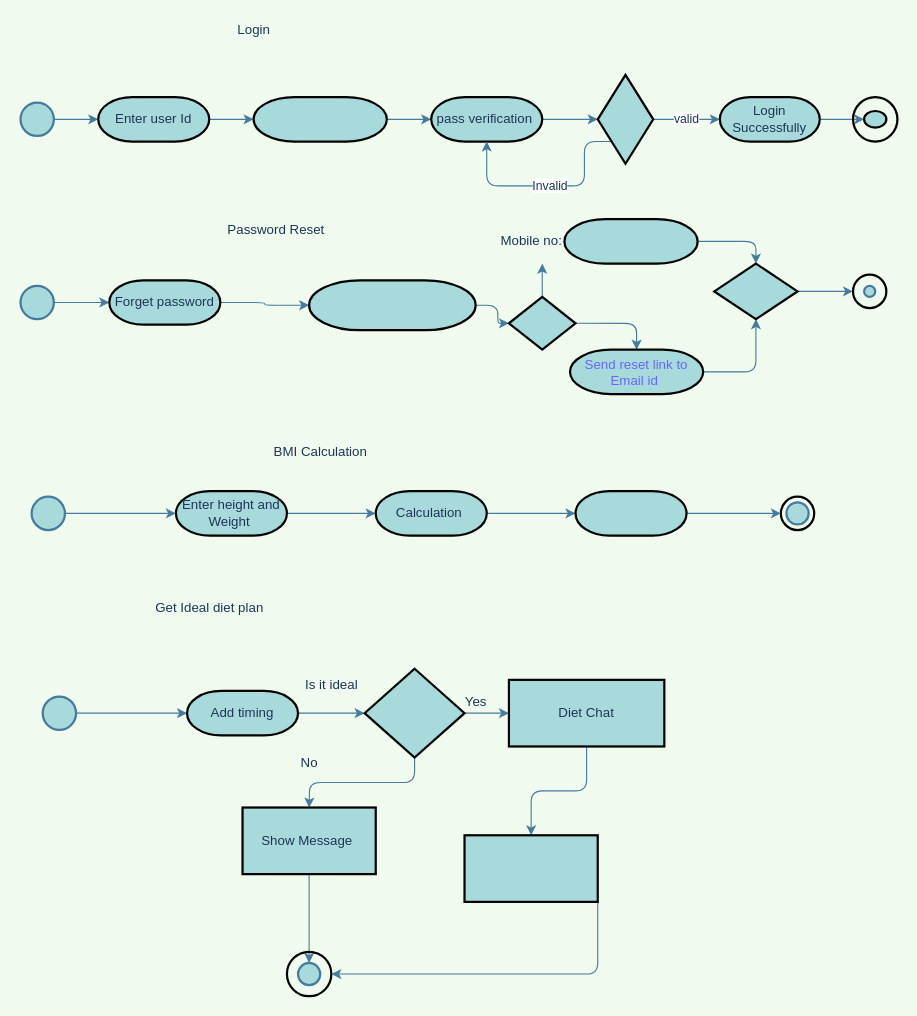
This 917x1016 diagram has some shape labels left out. Here are the shapes that lost their labels. From the top down, the centre of each, then its label:
At point (319, 118): "Enter Password".
At point (630, 241): "send OTP to mobile".
At point (391, 305): "Enter Register contact number or email".
At point (630, 513): "BMI Status".
At point (530, 868): "Redirect to home page".
